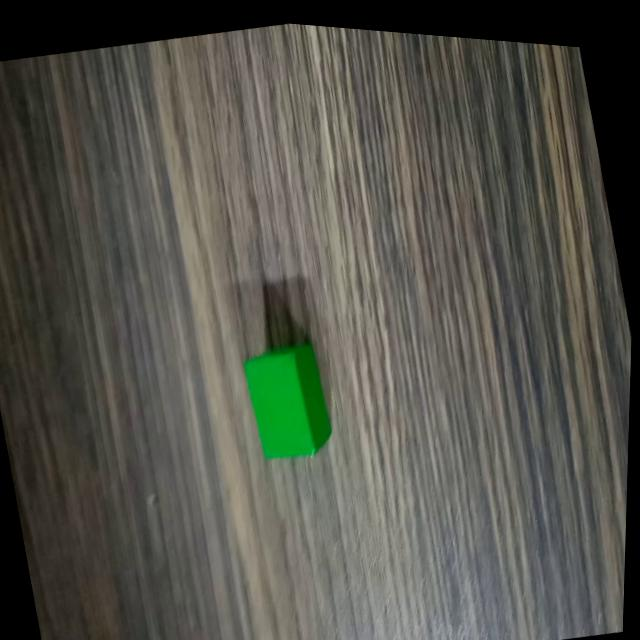cube: (233, 321, 345, 470)
